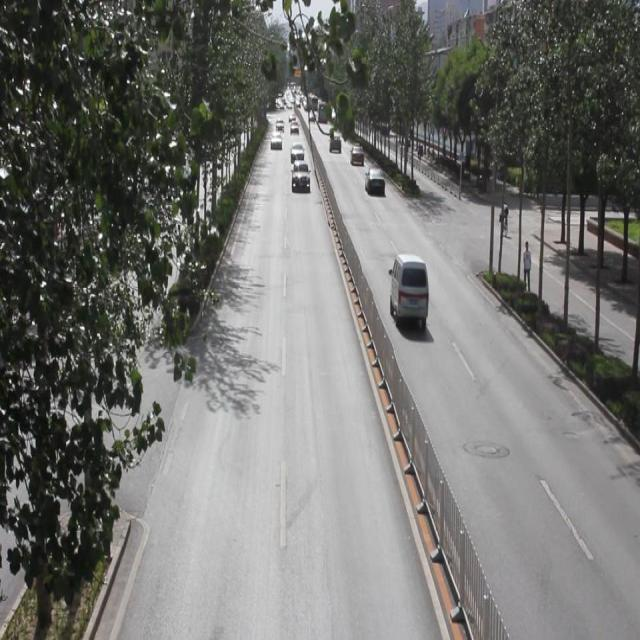car: (364, 165, 385, 198), (290, 157, 310, 190), (350, 143, 365, 165), (290, 141, 304, 164), (270, 129, 282, 152), (329, 133, 342, 153)
truck: (390, 253, 426, 324)
